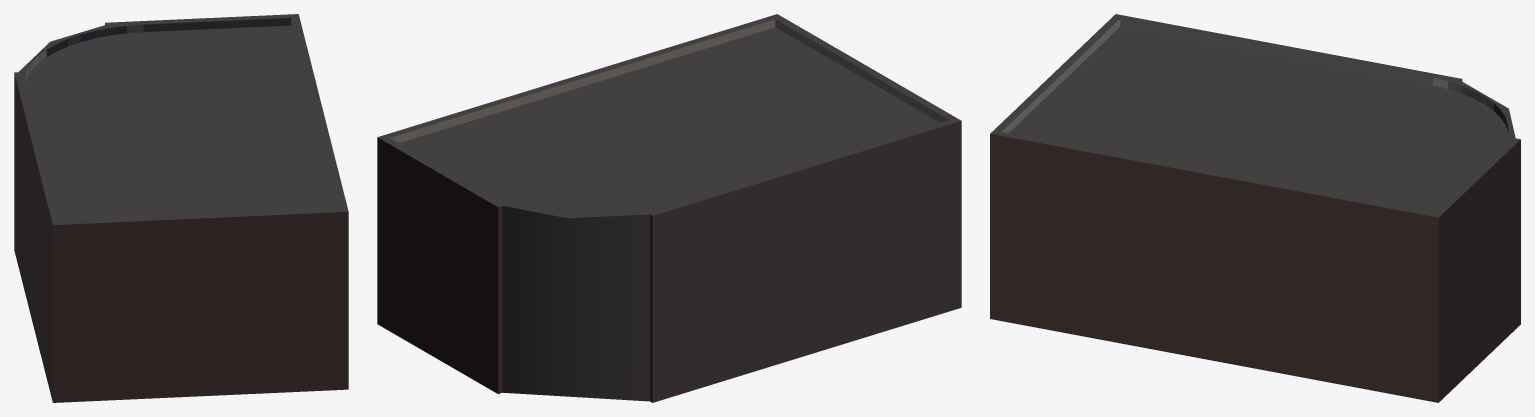
The model's file is 1300-broad-street.glb.
3 renders of one model, left to right at view 1: azimuth 30°, elevation 25°; view 2: azimuth 150°, elevation 25°; view 3: azimuth 270°, elevation 25°, orthographic. The views are drawn at different scales.
Visible parts, largest first — view 1: LOD0; view 2: LOD0; view 3: LOD0.
Part boxes in pixels (bbox=[...]): LOD0: bbox=[14, 14, 348, 402]; LOD0: bbox=[377, 14, 961, 402]; LOD0: bbox=[990, 14, 1520, 402].
Size of what is drawn, in the model's own units: 25.16 by 10.67 by 27.7.
Materials: 1 (1 with a texture image).
